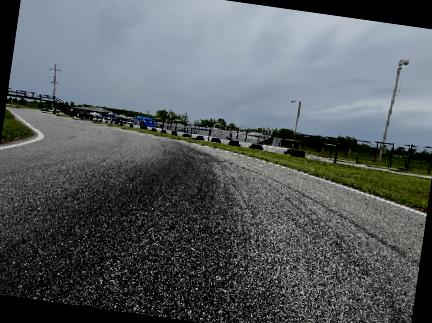Grass: (98, 123, 431, 211), (1, 109, 33, 142)
Lane: (0, 109, 425, 322)
